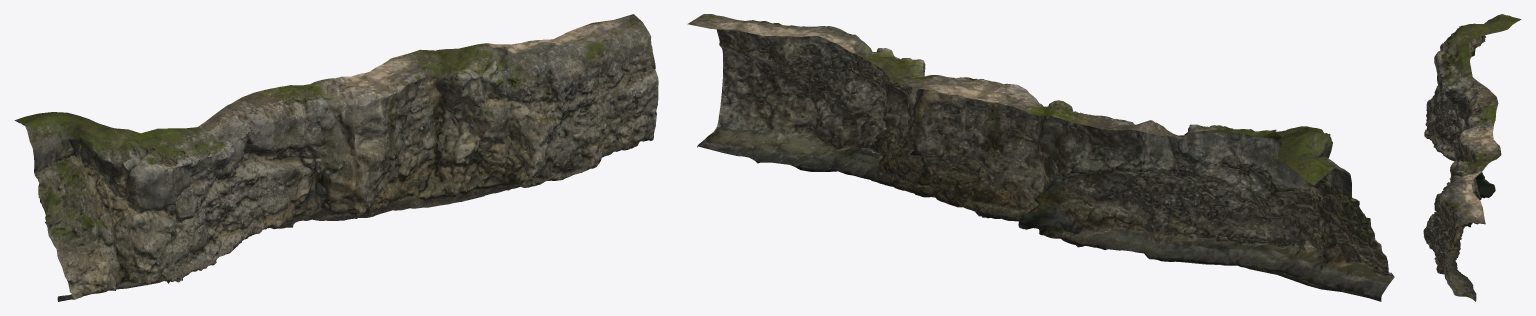
Rendered from coastal_cliff_02.glb.
3 renders of one model, left to right at view 1: azimuth 30°, elevation 25°; view 2: azimuth 150°, elevation 25°; view 3: azimuth 270°, elevation 25°, orthographic. The views are drawn at different scales.
Parts seen in each view (by area): view 1: coastal_cliff_02_LOD0; view 2: coastal_cliff_02_LOD0; view 3: coastal_cliff_02_LOD0.
Part boxes in pixels (x1,y1,x2,y2): coastal_cliff_02_LOD0: (14, 14, 658, 301); coastal_cliff_02_LOD0: (687, 14, 1394, 301); coastal_cliff_02_LOD0: (1423, 14, 1521, 301).
Bounding box in the file's own units: 40.93 × 10.05 × 8.65.
1 material, 1 textured.
